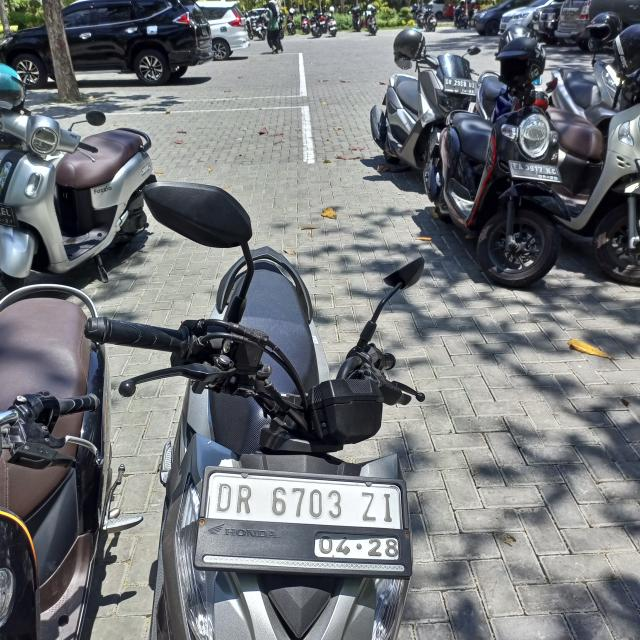plate: (206, 475, 406, 565), (508, 158, 562, 184)
